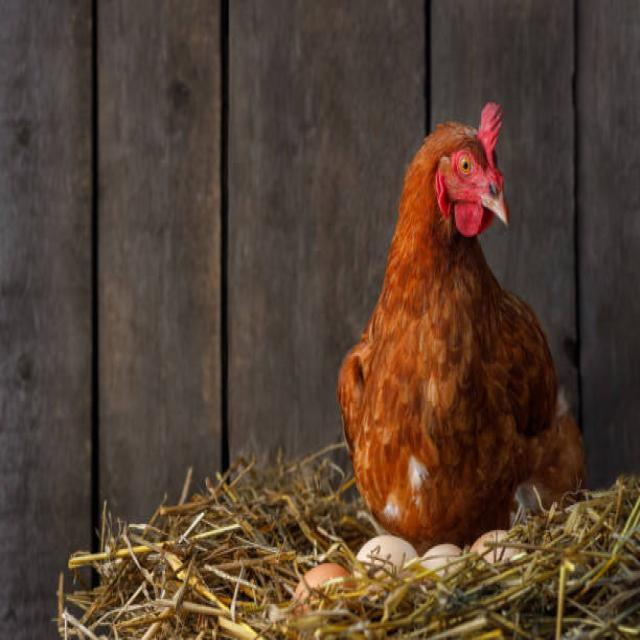Chicken: (339, 90, 609, 575)
